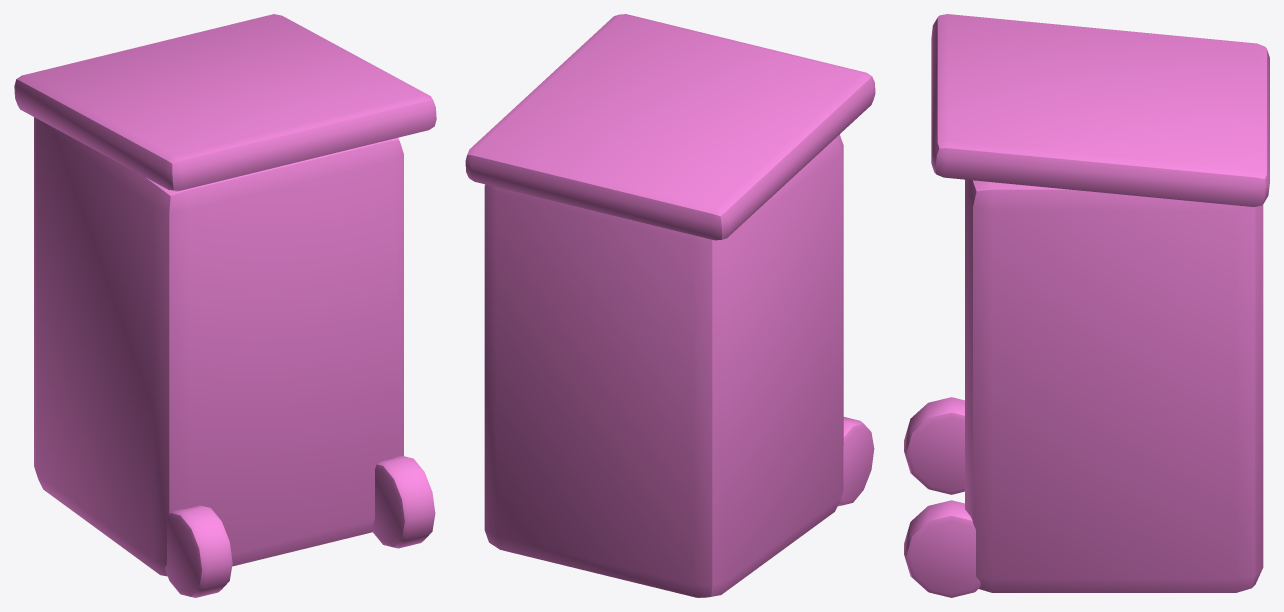
The model's file is Street_Bin.fbx.
3 renders of one model, left to right at view 1: azimuth 30°, elevation 25°; view 2: azimuth 150°, elevation 25°; view 3: azimuth 270°, elevation 25°, orthographic. The views are drawn at different scales.
Parts seen in each view (by area): view 1: Bin; view 2: Bin; view 3: Bin.
Part boxes in pixels (bbox=[...]): Bin: bbox=[14, 14, 436, 597]; Bin: bbox=[465, 14, 875, 597]; Bin: bbox=[904, 14, 1269, 597].
Size of the model in its own units: 2.4 by 3.77 by 2.7.
1 material, 1 textured.
